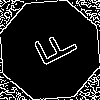F: (25, 25, 79, 73)
